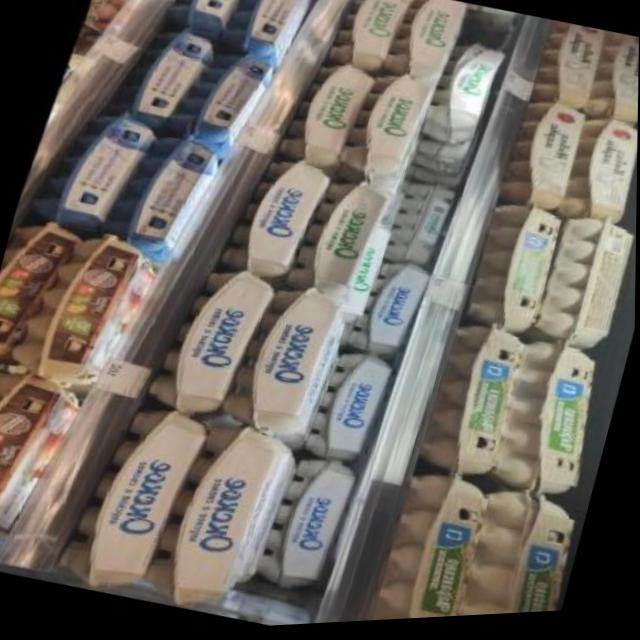Egg: (56, 396, 215, 608), (144, 413, 300, 628), (13, 219, 164, 399), (215, 275, 353, 453), (355, 461, 502, 625), (484, 338, 621, 511), (410, 317, 538, 493), (151, 258, 280, 432), (432, 480, 590, 622), (32, 93, 165, 246), (453, 197, 572, 349), (107, 123, 227, 272), (0, 357, 85, 564), (254, 451, 366, 603), (219, 148, 335, 291), (287, 175, 390, 310), (170, 44, 274, 170), (114, 17, 218, 143), (300, 346, 400, 477), (491, 98, 594, 221), (337, 69, 430, 198), (278, 59, 376, 180), (0, 216, 75, 369), (417, 38, 508, 157), (556, 118, 638, 237), (348, 256, 433, 370), (526, 22, 610, 123), (383, 0, 469, 94), (217, 0, 319, 75), (326, 0, 412, 82), (576, 34, 639, 140), (160, 0, 257, 49)
